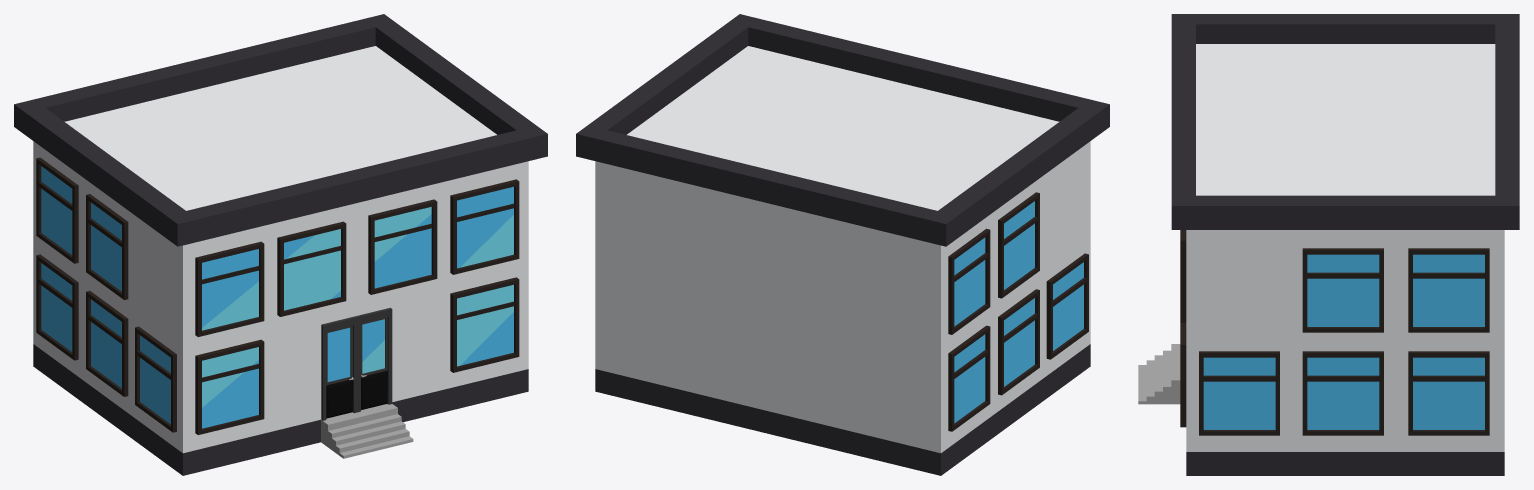
File: Env_CompanyBuilding_03.fbx
The picture shows the model from 3 angles, left to right: view 1: azimuth 30°, elevation 25°; view 2: azimuth 150°, elevation 25°; view 3: azimuth 270°, elevation 25°; orthographic projection. The views are drawn at different scales.
Parts seen in each view (by area): view 1: Env_CompanyBuilding_03; view 2: Env_CompanyBuilding_03; view 3: Env_CompanyBuilding_03.
Part boxes in pixels (x1,y1,x2,y2): Env_CompanyBuilding_03: [14, 14, 547, 475]; Env_CompanyBuilding_03: [576, 14, 1109, 475]; Env_CompanyBuilding_03: [1138, 14, 1519, 475].
Size of the model in its own units: 1117 by 749 by 937.
